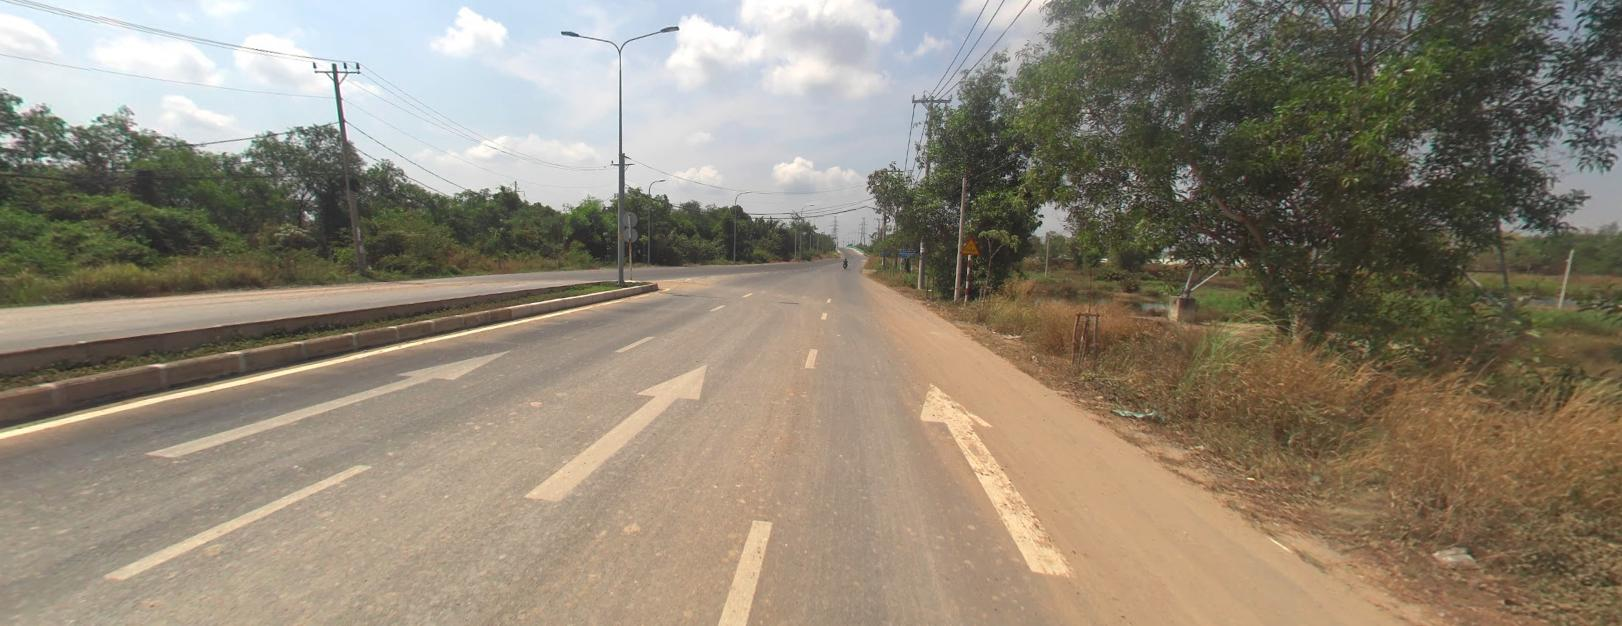Nguy hiem: (960, 237, 980, 254)
